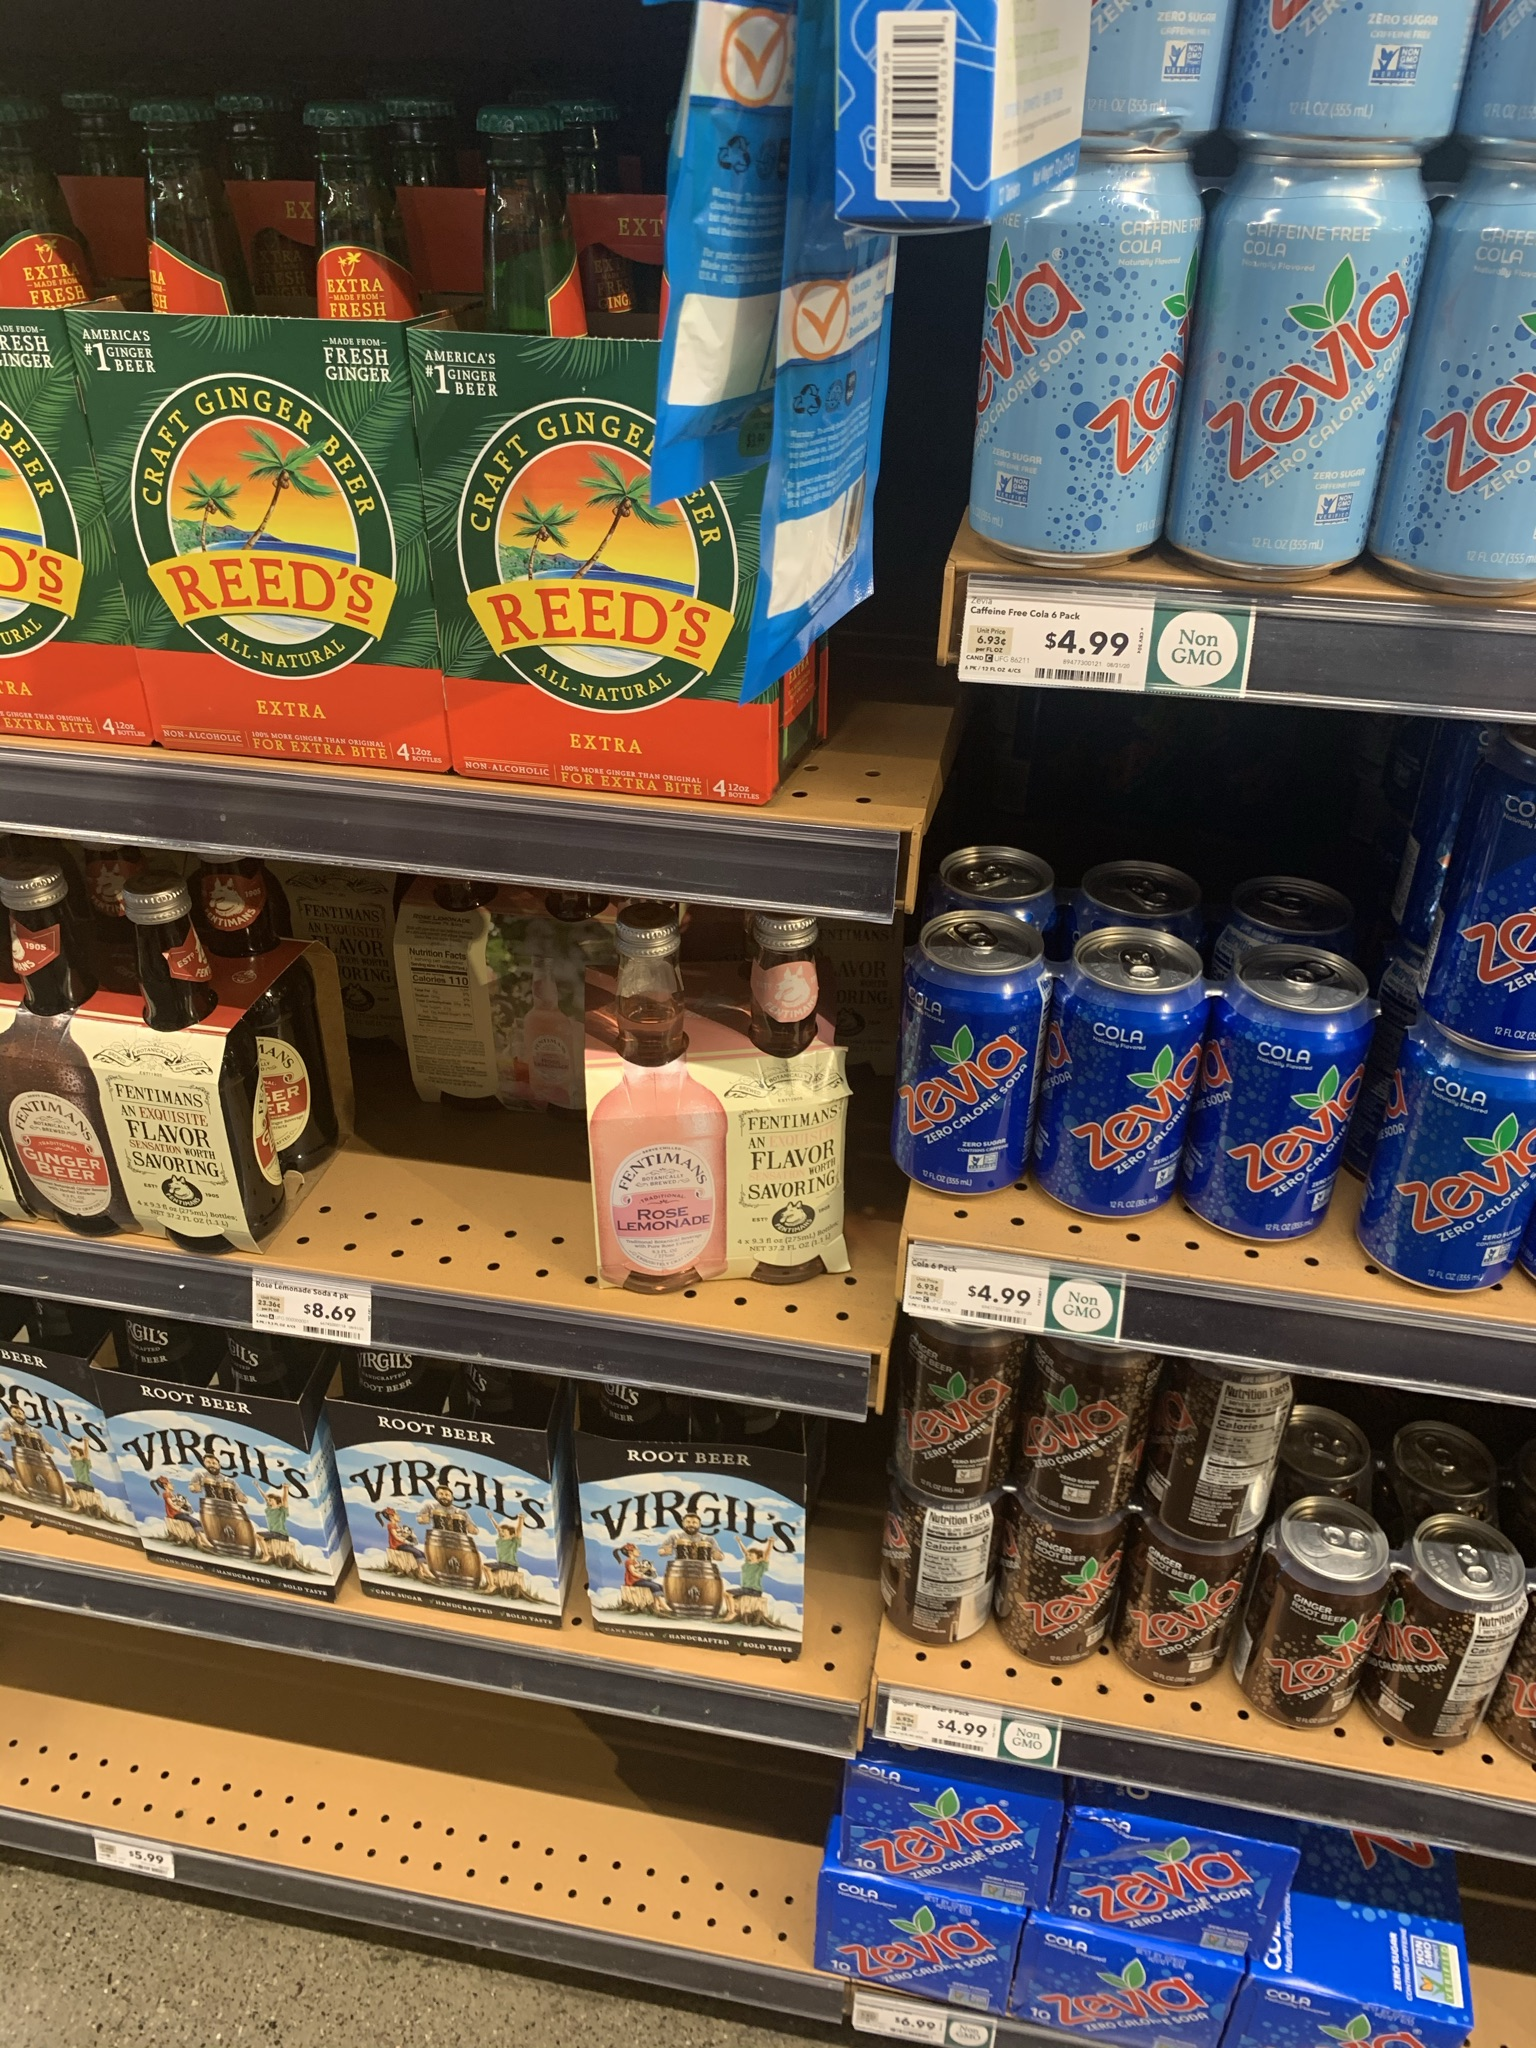box: (1075, 1832, 1271, 1929), (852, 1792, 1049, 1874)
can: (1215, 166, 1396, 560), (1008, 202, 1160, 542), (1066, 943, 1179, 1201), (1384, 1059, 1518, 1276), (1218, 985, 1331, 1235), (912, 953, 1008, 1193), (1160, 1353, 1283, 1517), (900, 1327, 1005, 1519), (1392, 1571, 1507, 1737), (1276, 1550, 1368, 1732), (1149, 1535, 1226, 1687), (1025, 1522, 1105, 1664)
